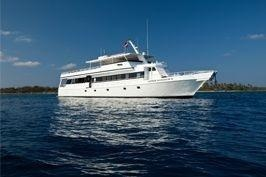yacht: (55, 40, 212, 99)
